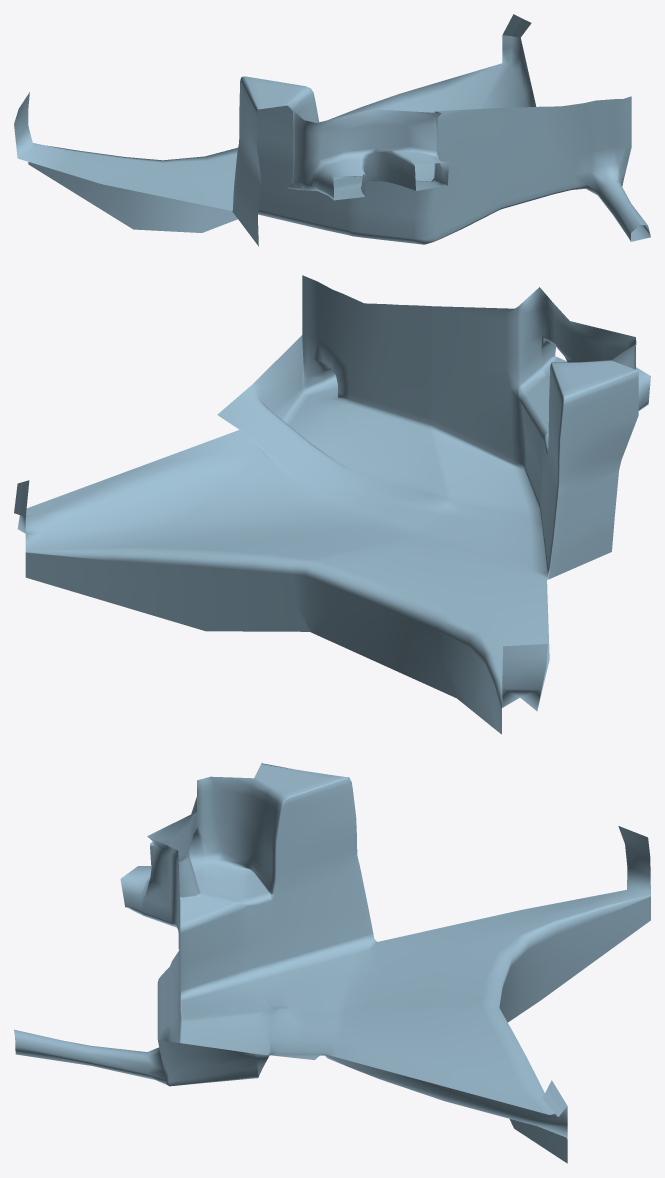
File: terrain_W2A1.fbx
The picture shows the model from 3 angles, top to bottom: view 1: azimuth 30°, elevation 25°; view 2: azimuth 150°, elevation 25°; view 3: azimuth 270°, elevation 25°; orthographic projection. The views are drawn at different scales.
Parts seen in each view (by area): view 1: W2A1_mesh; view 2: W2A1_mesh; view 3: W2A1_mesh.
Boxes of the visible parts, x1,y1,x2,y2 form: W2A1_mesh: (14, 14, 650, 246); W2A1_mesh: (14, 275, 650, 734); W2A1_mesh: (14, 763, 650, 1163).
Size of the model in its own units: 26903 by 11343 by 27224.
